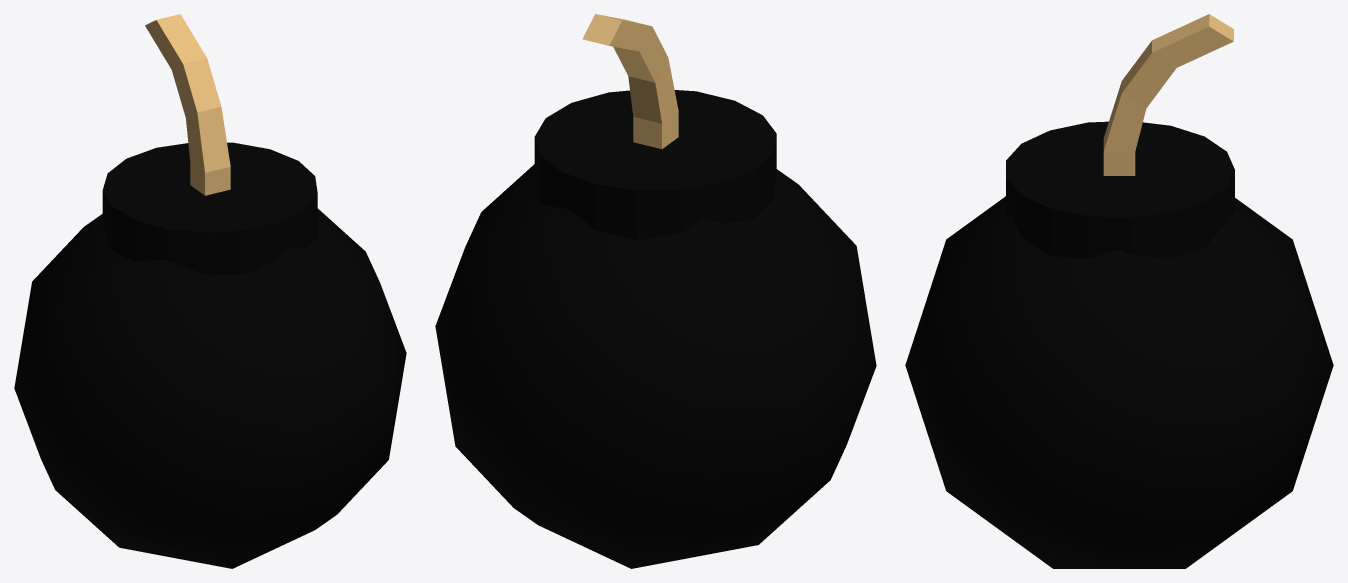
File: classic_bomb.fbx
3 renders of one model, left to right at view 1: azimuth 30°, elevation 25°; view 2: azimuth 150°, elevation 25°; view 3: azimuth 270°, elevation 25°, orthographic. The views are drawn at different scales.
Parts seen in each view (by area): view 1: Icosphere; view 2: Icosphere; view 3: Icosphere.
Part boxes in pixels (x1,y1,x2,y2): Icosphere: [14, 14, 406, 568]; Icosphere: [435, 14, 876, 568]; Icosphere: [905, 14, 1333, 568].
Bounding box in the file's own units: 190 × 278 × 200.
